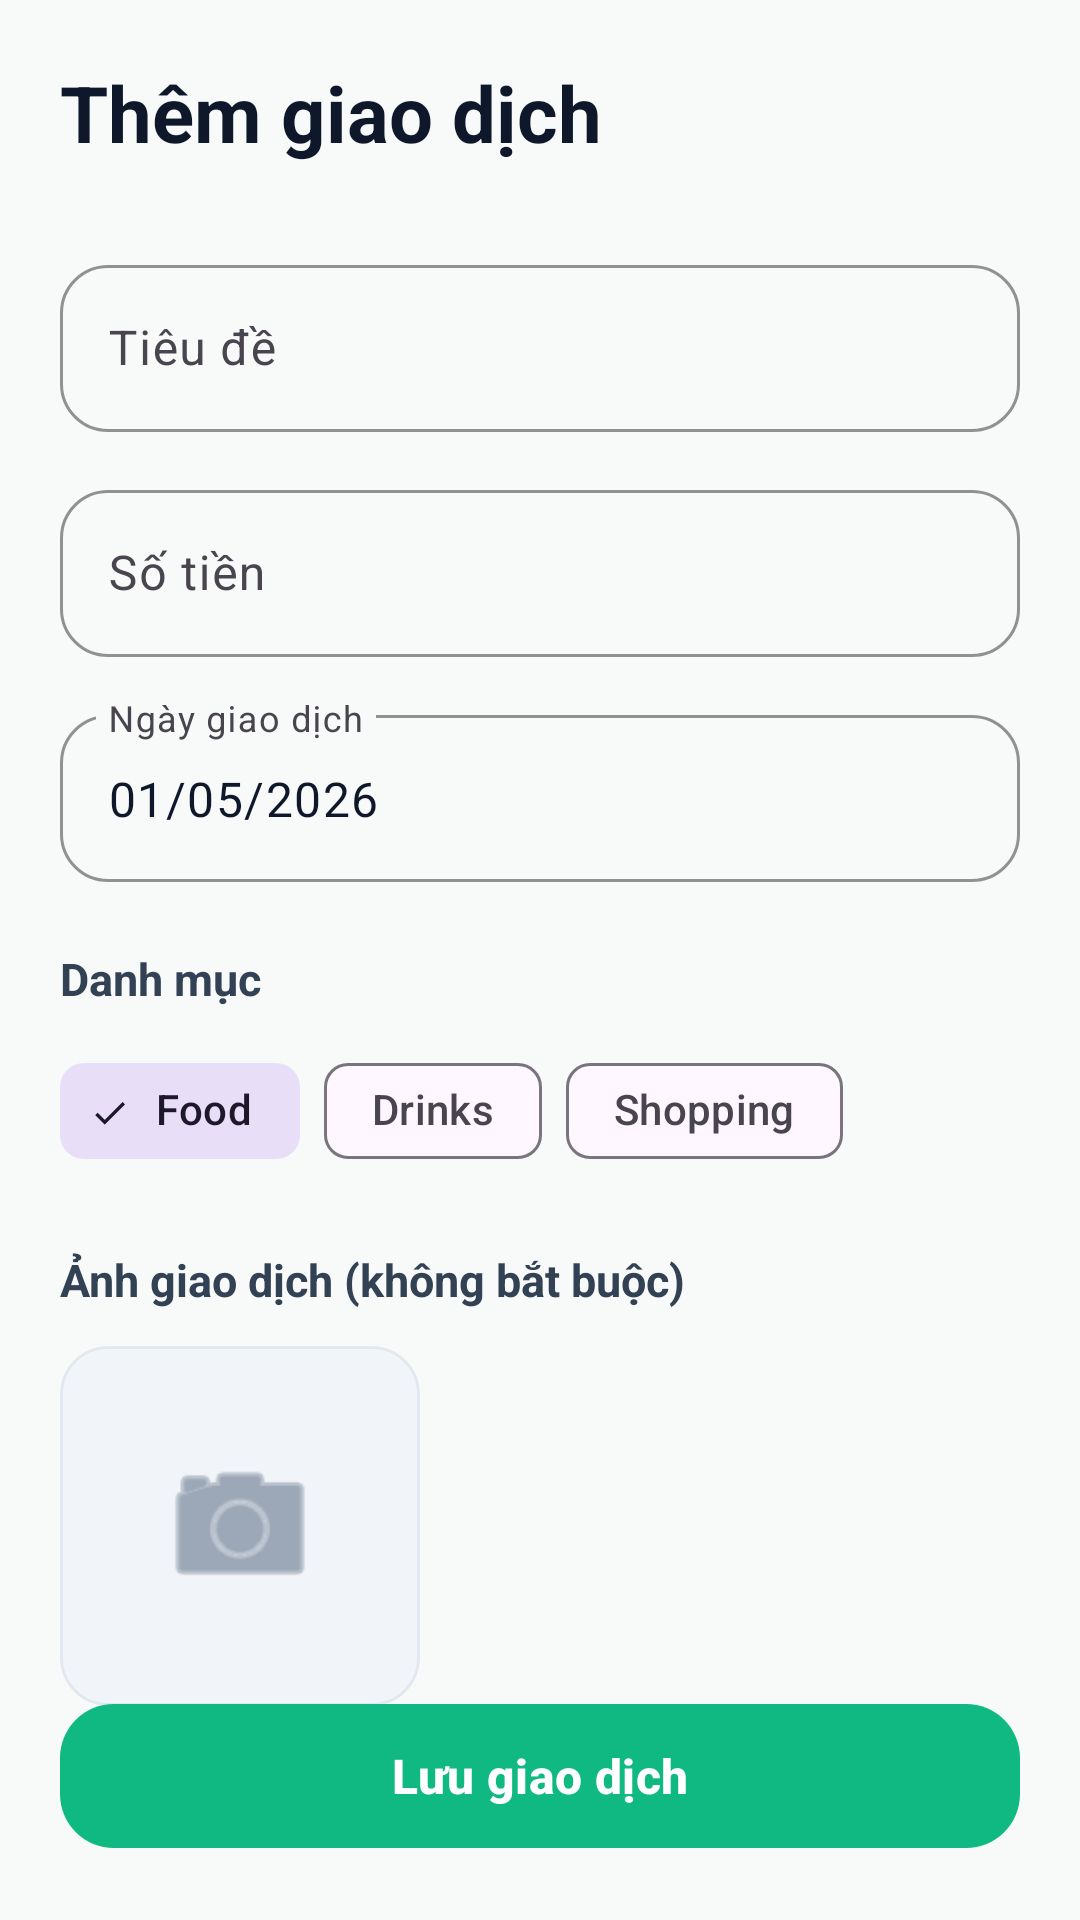

Named icons in this screenshot (1080 × 1920) and their centers, (x,y):
camera: (240,1523)
